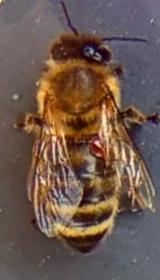varroa_mite: (78, 132, 112, 162)
